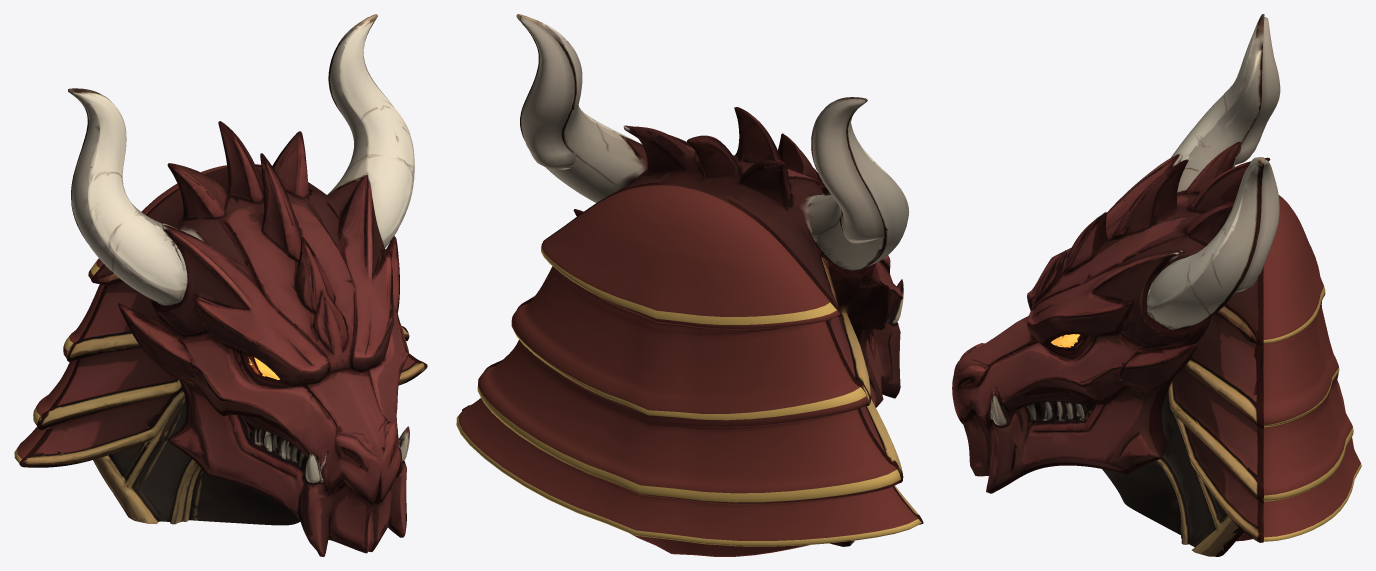
Rendered from h_dragonknight_d.glb.
3 renders of one model, left to right at view 1: azimuth 30°, elevation 25°; view 2: azimuth 150°, elevation 25°; view 3: azimuth 270°, elevation 25°, orthographic. The views are drawn at different scales.
Parts seen in each view (by area): view 1: DragonKnightHelm; view 2: DragonKnightHelm; view 3: DragonKnightHelm.
Boxes of the visible parts, <box> form: DragonKnightHelm: <box>14,14,427,556</box>; DragonKnightHelm: <box>456,14,923,556</box>; DragonKnightHelm: <box>952,14,1361,556</box>.
Size of the model in its own units: 0.5266 by 0.5267 by 0.4667.
4 materials, 1 textured.
